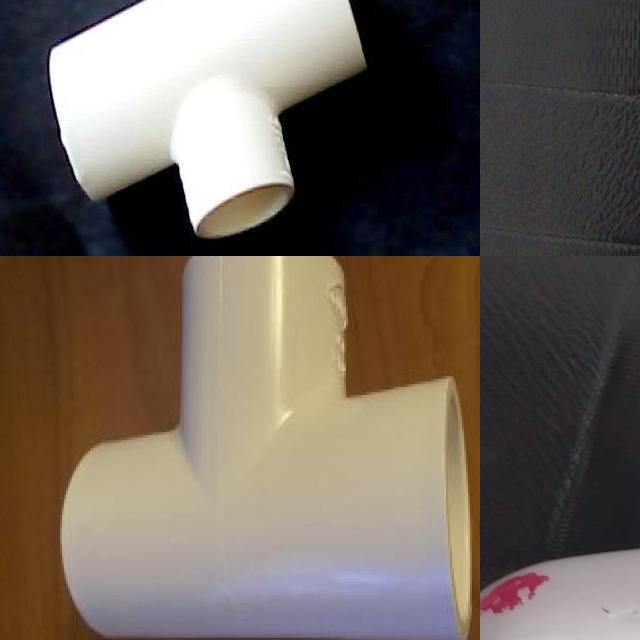Defective: (594, 232, 640, 256)
L Joint: (480, 549, 640, 640), (507, 166, 640, 256)
T Joint: (58, 256, 472, 640), (47, 0, 369, 240)
